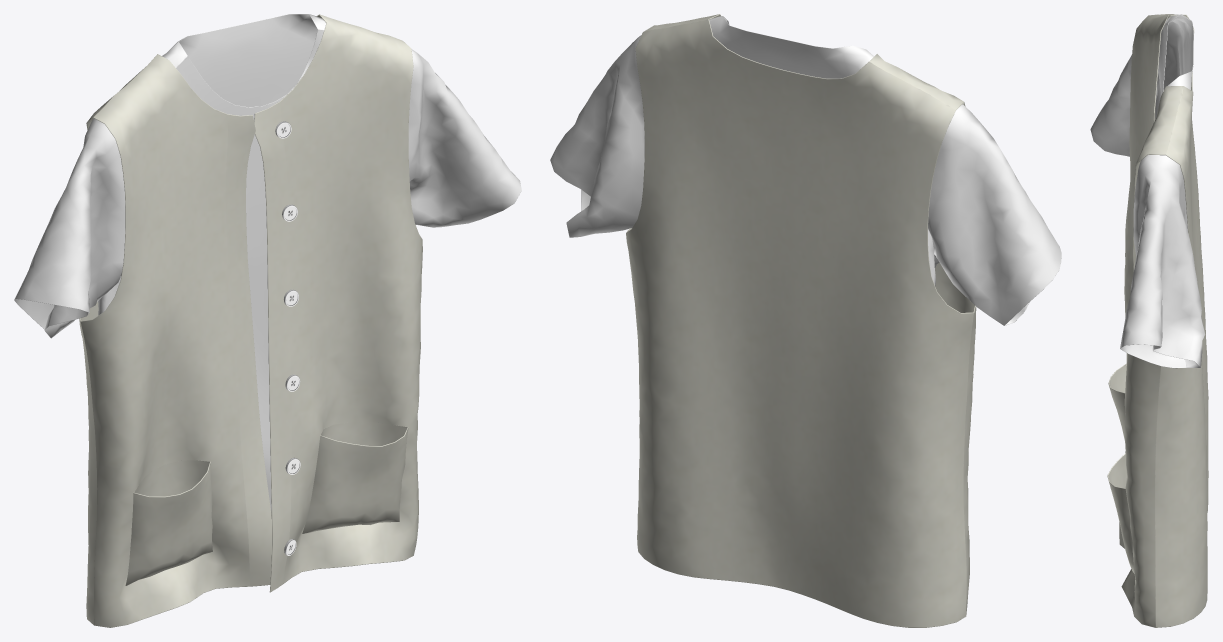
Rendered from FLG_12_06_5.fbx.
The picture shows the model from 3 angles, left to right: view 1: azimuth 30°, elevation 25°; view 2: azimuth 150°, elevation 25°; view 3: azimuth 270°, elevation 25°; orthographic projection. The views are drawn at different scales.
Parts seen in each view (by area): view 1: FLG_12_06_5; view 2: FLG_12_06_5; view 3: FLG_12_06_5.
Part boxes in pixels (x1,y1,x2,y2): FLG_12_06_5: [14, 14, 521, 627]; FLG_12_06_5: [550, 14, 1061, 627]; FLG_12_06_5: [1090, 14, 1208, 627].
Size of the model in its own units: 66.17 by 70.07 by 14.6.
